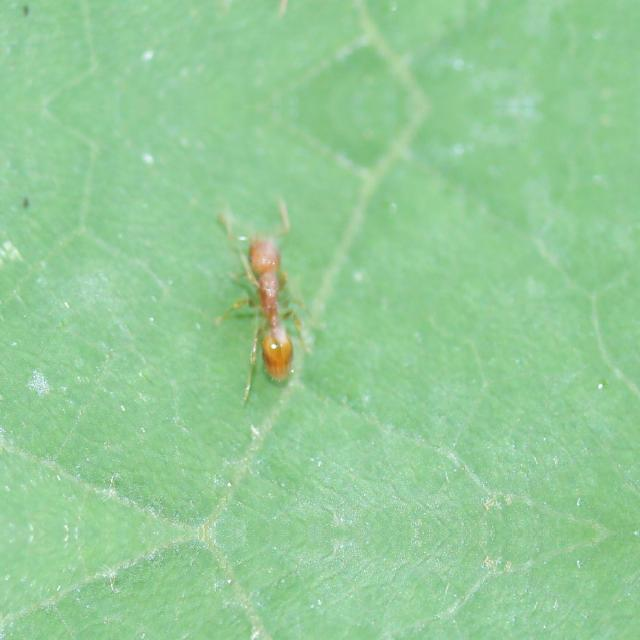Temnothorax: (195, 202, 341, 398)
